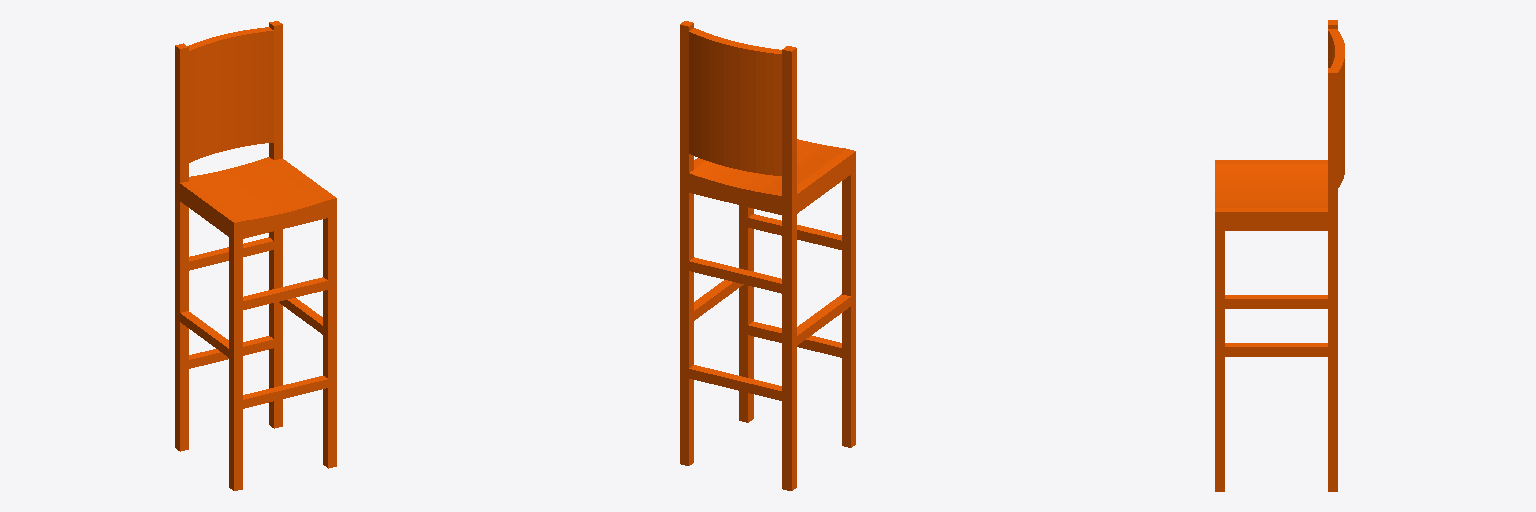
The robot description file, URDF, robot "Barstool_3bfb17754ac7af6e5892b42d65a699e":
<?xml version="1.0" ?>
<robot name="Barstool_3bfb17754ac7af6e5892b42d65a699e">
   <material name="obj_color">
      <color rgba="1.0 0.423529411765 0.0392156862745 1.0"/>
   </material>
   <link name="top">
      <inertial>
         <origin rpy="0.0002301873592400408 0.001420940945479073 0.001421786150452053" xyz="1.400027092480668e-05 -0.0077033727699738 -0.03392014618319834"/>
         <mass value="0.4909761889861312"/>
         <inertia ixx="0.001420940945479084" ixy="-3.528296051114939e-12" ixz="-4.538118198844581e-12" iyy="0.001415203256063015" iyz="-8.832233295210816e-05" izz="0.0002367702536290674"/>
      </inertial>
      <visual>
         <origin rpy="0 0 0" xyz="0 0 0"/>
         <geometry>
            <mesh filename="top_watertight_tiny.stl" scale="1 1 1"/>
         </geometry>
         <material name="obj_color"/>
      </visual>
      <collision>
         <origin rpy="0 0 0" xyz="0 0 0"/>
         <geometry>
            <mesh filename="top_watertight_tiny.obj" scale="1 1 1"/>
         </geometry>
      </collision>
   </link>
   <link name="bottom">
      <inertial>
         <origin rpy="1.633333333199431e-08 1.633333333199431e-08 1.633333333362855e-08" xyz="0.3464080000000008 0.3464080000000008 0.3464080000000008"/>
         <mass value="0.0009800000000000017"/>
         <inertia ixx="1.633333333253906e-08" ixy="5.447480642029219e-19" ixz="5.447480642029219e-19" iyy="1.633333333253906e-08" iyz="5.447480642029219e-19" izz="1.633333333253906e-08"/>
      </inertial>
      <visual>
         <origin rpy="0 0 0" xyz="0 0 0"/>
         <geometry>
            <mesh filename="bottom_watertight_tiny.stl" scale="1 1 1"/>
         </geometry>
         <material name="obj_color"/>
      </visual>
   </link>
   <link name="world"/>
   <joint name="world_to_base" type="fixed">
      <origin xyz="0 0 0"/>
      <axis xyz="0 0 0"/>
      <parent link="world"/>
      <child link="bottom"/>
   </joint>
   <joint name="rotation" type="revolute">
      <origin xyz="0 0 0"/>
      <axis xyz="0 0 -1"/>
      <parent link="bottom"/>
      <child link="top"/>
      <dynamics damping="1.0" friction="1.0"/>
      <limit effort="0.1" velocity="0.1" lower="0" upper="0.001"/>
   </joint>
</robot>

--- Facts derived from the render (not from the file) ---
Views: 3 orthographic renders of the robot side by side, from view 1: azimuth 30°, elevation 25°; view 2: azimuth 150°, elevation 25°; view 3: azimuth 270°, elevation 25°.
Model Barstool_3bfb17754ac7af6e5892b42d65a699e with 3 links and 2 joints (1 revolute, 1 fixed), rooted at world, posed all joints at 0.
Links seen in each view (by area): view 1: top; view 2: top; view 3: top.
Link boxes in pixels (x1=…): top: x1=175, y1=21, x2=336, y2=490; top: x1=680, y1=21, x2=855, y2=490; top: x1=1215, y1=20, x2=1344, y2=491.
Size in the robot's own frame: 0.0535 by 0.0568 by 0.2005 metres.
Meshes: 2 distinct files referenced, 1 mesh visuals loaded (1 binary STL); not drawn: 1 (reference not matched to a file when rendering).
